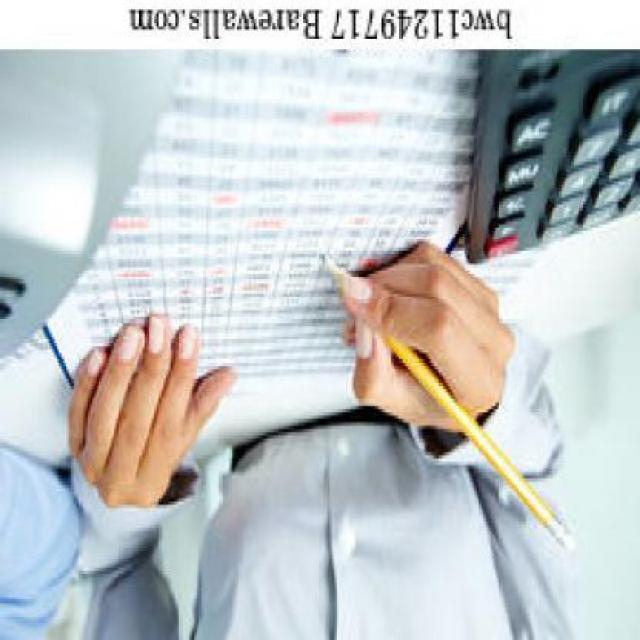Pencil: (313, 242, 362, 304)
